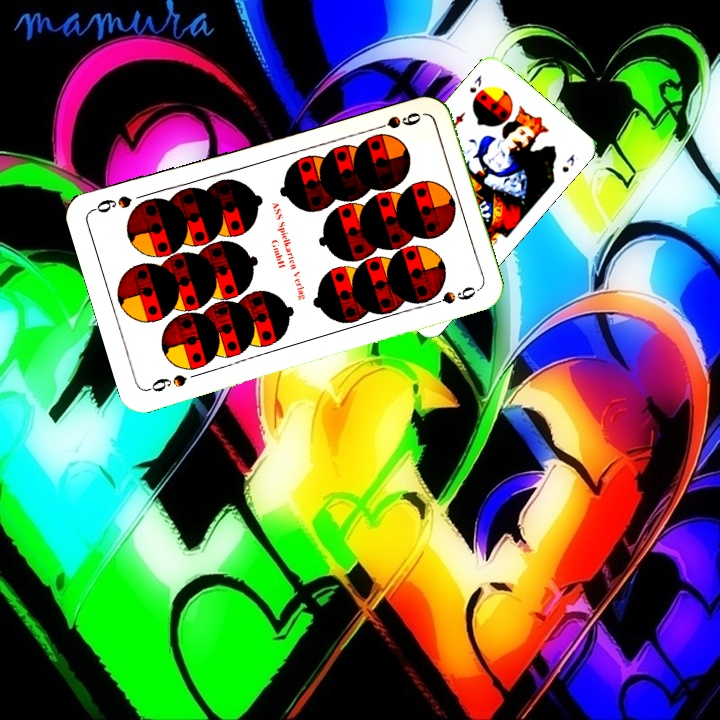S9: (367, 108, 424, 134), (143, 370, 189, 395)
SK: (465, 71, 484, 96)
